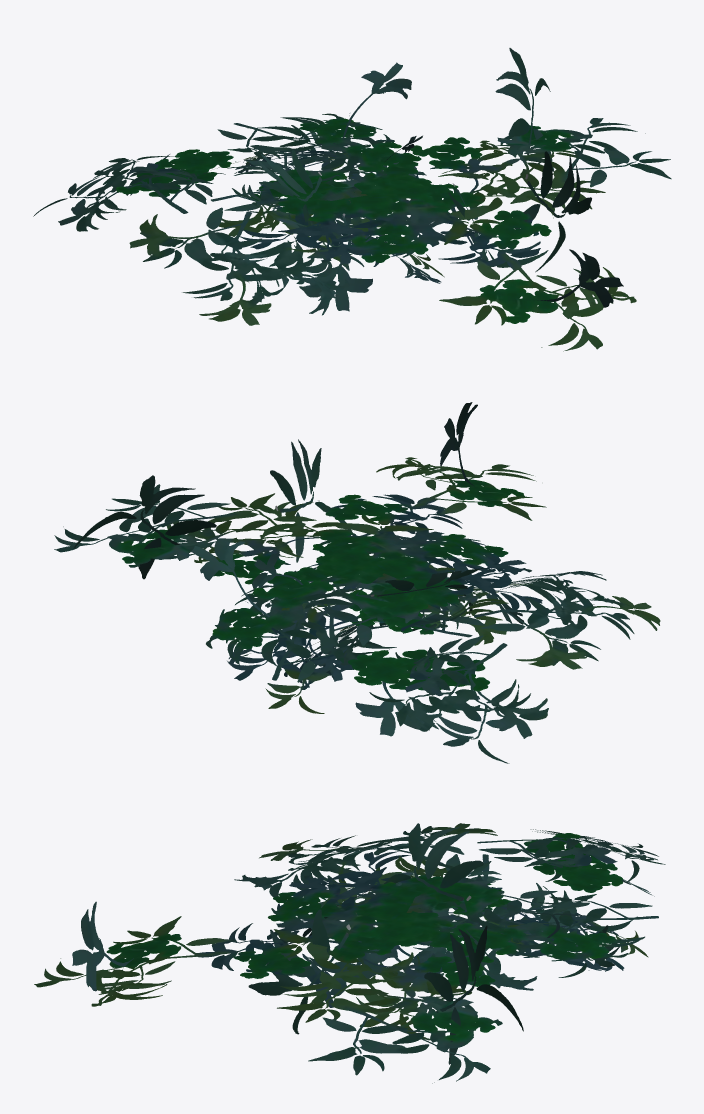
The picture shows the model from 3 angles, top to bottom: view 1: azimuth 30°, elevation 25°; view 2: azimuth 150°, elevation 25°; view 3: azimuth 270°, elevation 25°; orthographic projection. The views are drawn at different scales.
Parts seen in each view (by area): view 1: SM_BM_Leaf_Piles_05_LOD0; view 2: SM_BM_Leaf_Piles_05_LOD0; view 3: SM_BM_Leaf_Piles_05_LOD0.
Boxes of the visible parts, x1,y1,x2,y2 form: SM_BM_Leaf_Piles_05_LOD0: (33,48,671,351); SM_BM_Leaf_Piles_05_LOD0: (54,402,660,763); SM_BM_Leaf_Piles_05_LOD0: (34,823,665,1083).
Bounding box in the file's own units: 0.8244 × 0.2712 × 0.8195.
1 material, 1 textured.
